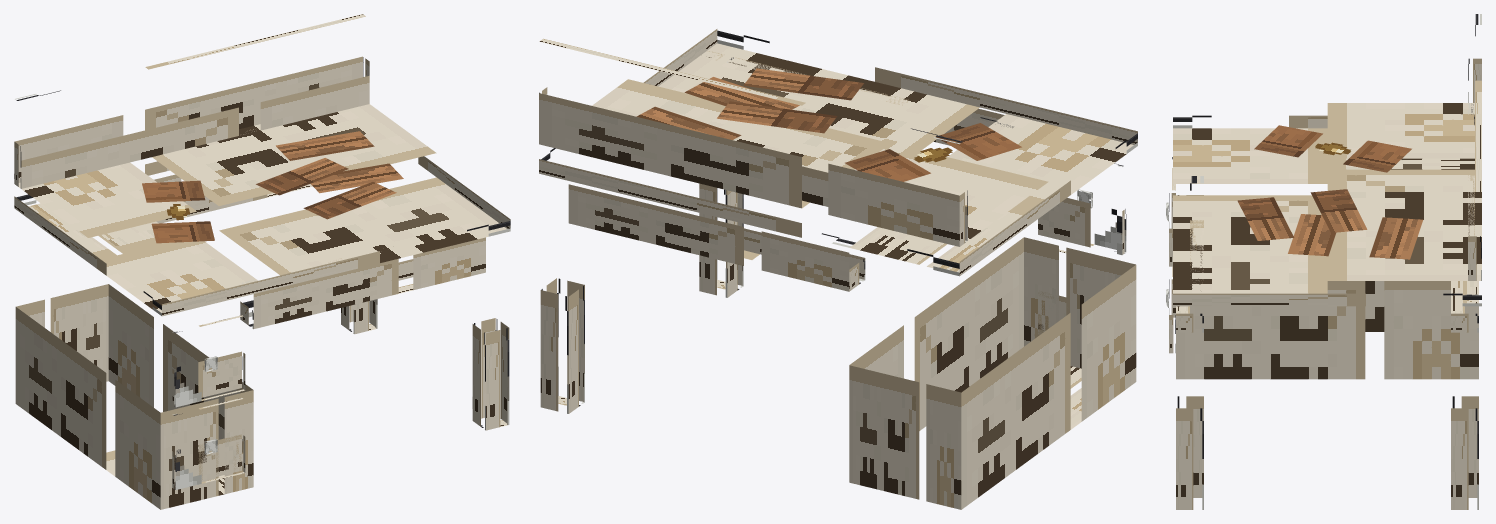
Rendered from altar.obj.
3 views of the same model, side by side, from view 1: azimuth 30°, elevation 25°; view 2: azimuth 150°, elevation 25°; view 3: azimuth 270°, elevation 25° (orthographic). The views are drawn at different scales.
Size of the model in its own units: 0.9375 by 0.7812 by 0.7031.
